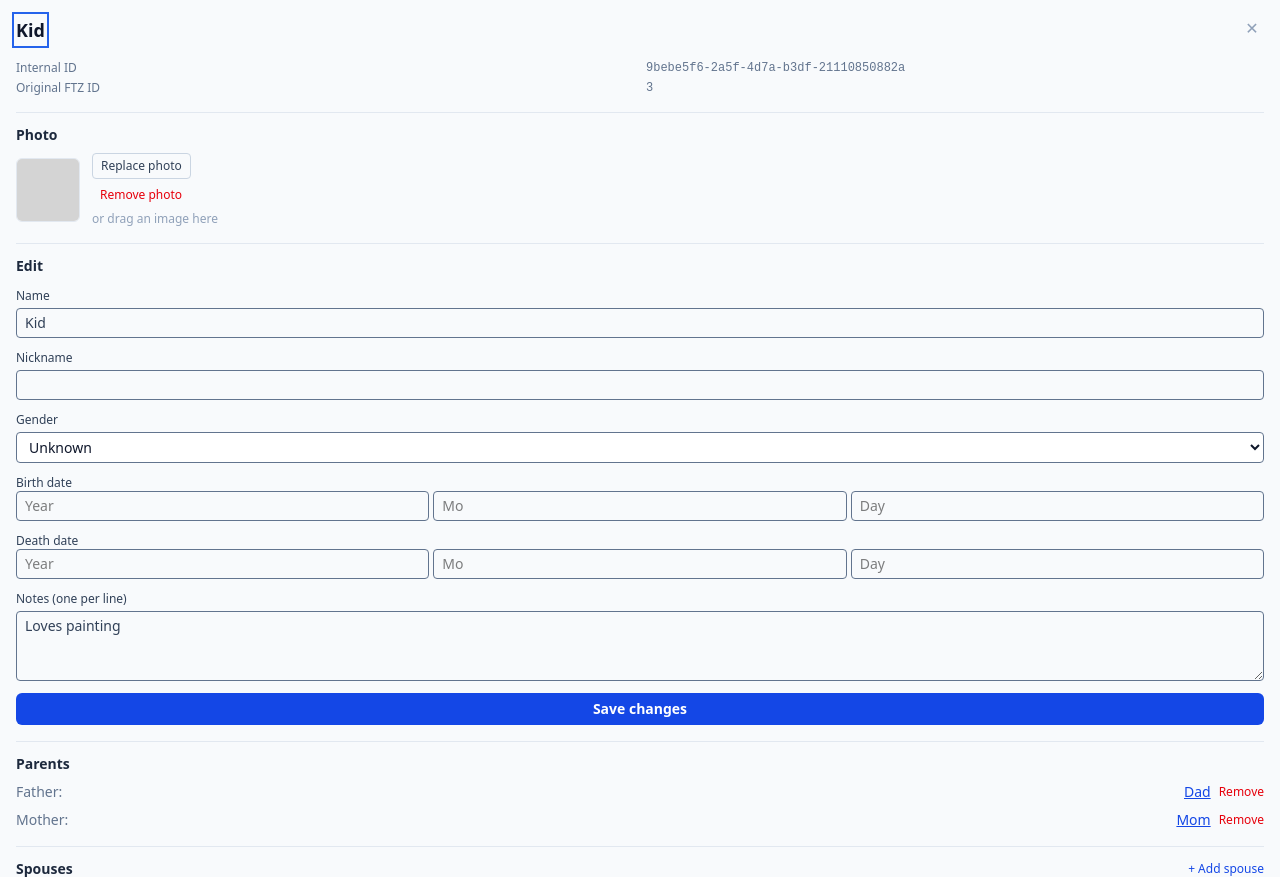
Test: PersonInspector › removes an existing photo and restores focus to the upload control
Click the button "Remove photo".
click(141, 195)  # box [92,183,190,207]
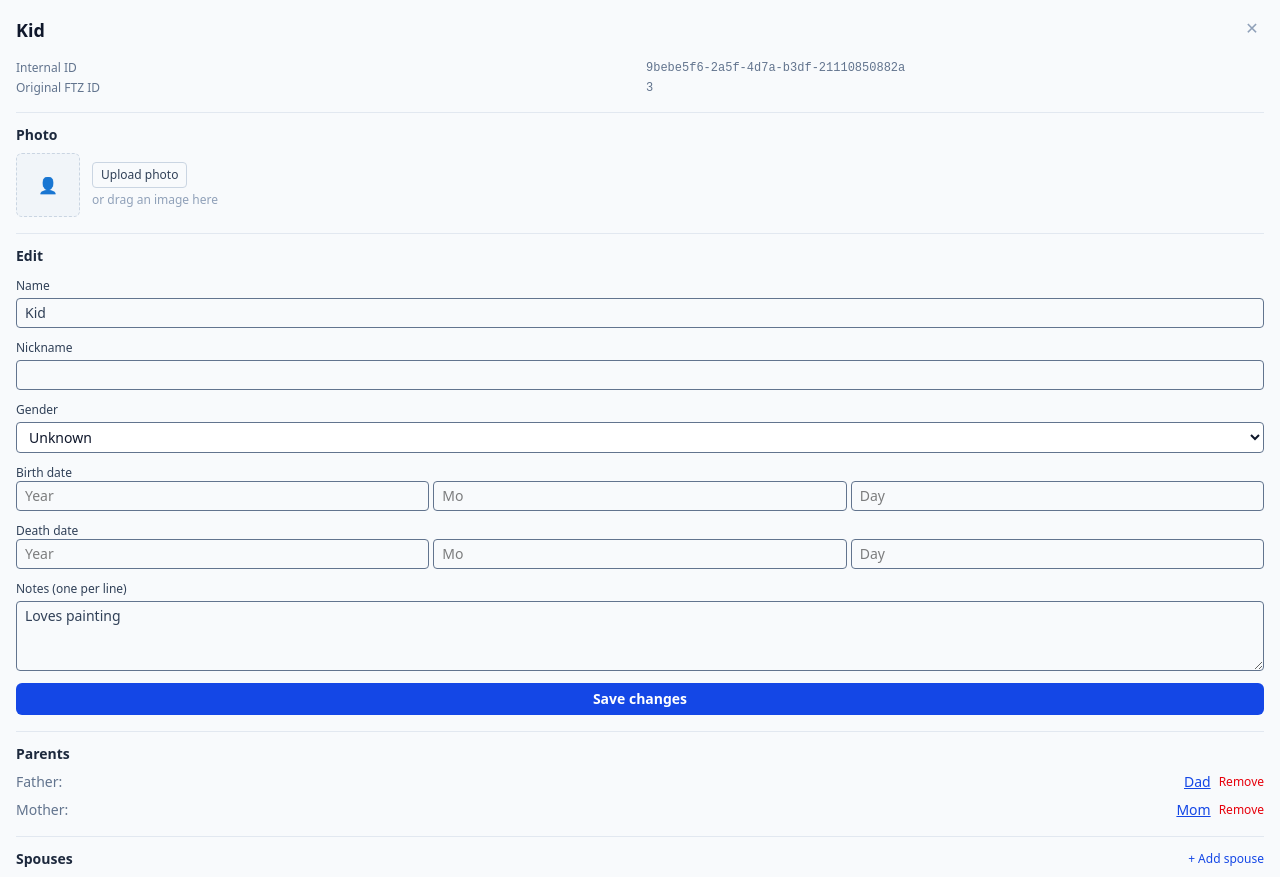
Expected: the picture named "no photo" is shown, [16,153,80,217]
